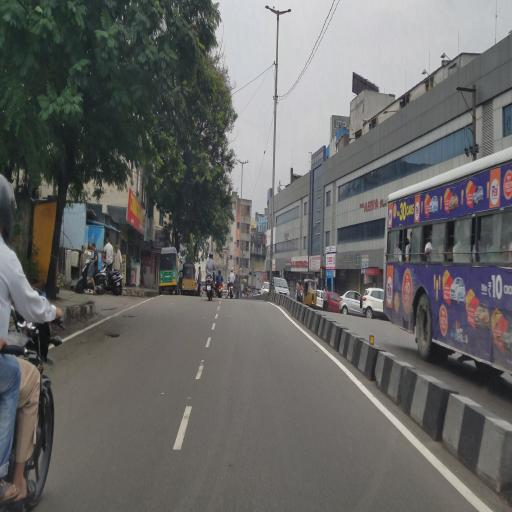street_light_0: (279, 3, 299, 27), (258, 1, 278, 25), (242, 152, 256, 170), (228, 148, 242, 166)
